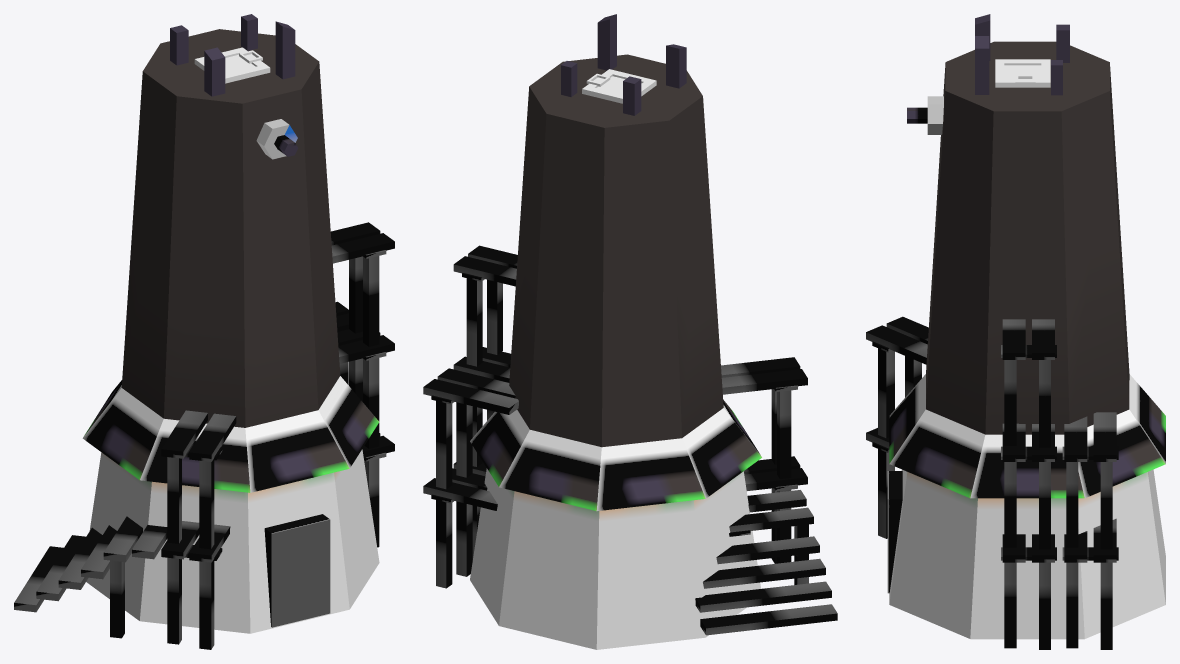
File: FarmPhase02.fbx
The picture shows the model from 3 angles, left to right: view 1: azimuth 30°, elevation 25°; view 2: azimuth 150°, elevation 25°; view 3: azimuth 270°, elevation 25°; orthographic projection.
Parts seen in each view (by area): view 1: FarmPhase2; view 2: FarmPhase2; view 3: FarmPhase2.
Part boxes in pixels (x1,y1,x2,y2): FarmPhase2: [14, 14, 394, 649]; FarmPhase2: [423, 14, 837, 649]; FarmPhase2: [866, 14, 1165, 649].
Size of the model in its own units: 266 by 381 by 186.
